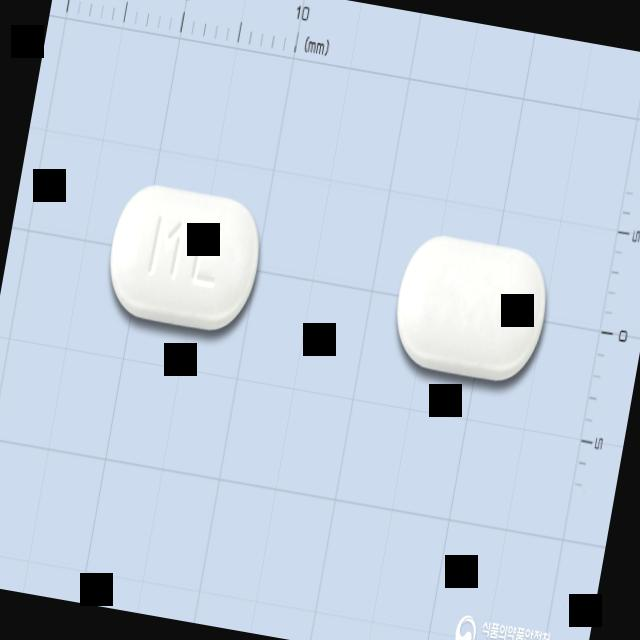Meiact Tab- Boryung: (100, 180, 268, 340)
